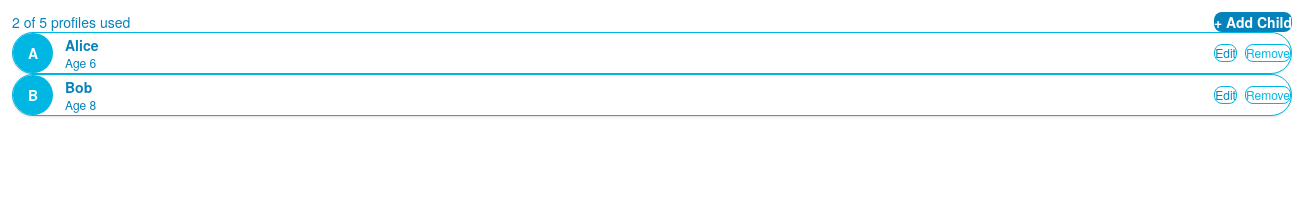
it: ChildrenManager › cancels edit and returns to card view
Click the button with test id "edit-child-btn". click: (1226, 53)
box: [1214,44,1237,62]
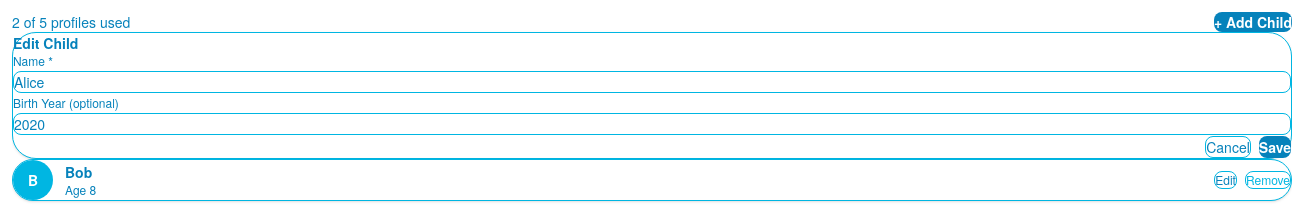
expect the form with test id "edit-child-form" is shown: met, box [12,32,1292,159]
Click the button with test id "edit-child-cancel-btn". click: (1228, 147)
box: [1205,136,1251,158]
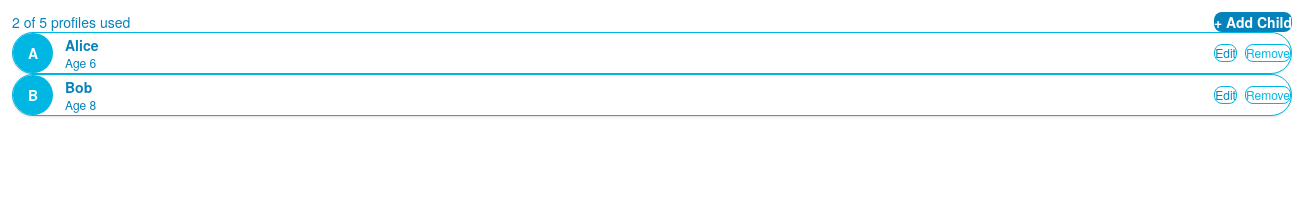
expect the form with test id "edit-child-form" is gone: met
expect the number of elements with test id "child-profile-card" is 2: met, box [12,32,1292,74]; [12,74,1292,116]
